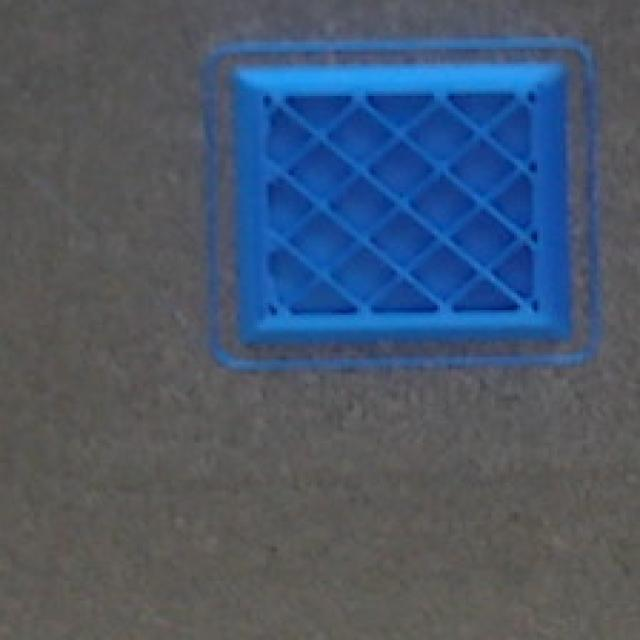noMistake: (206, 35, 609, 381)
